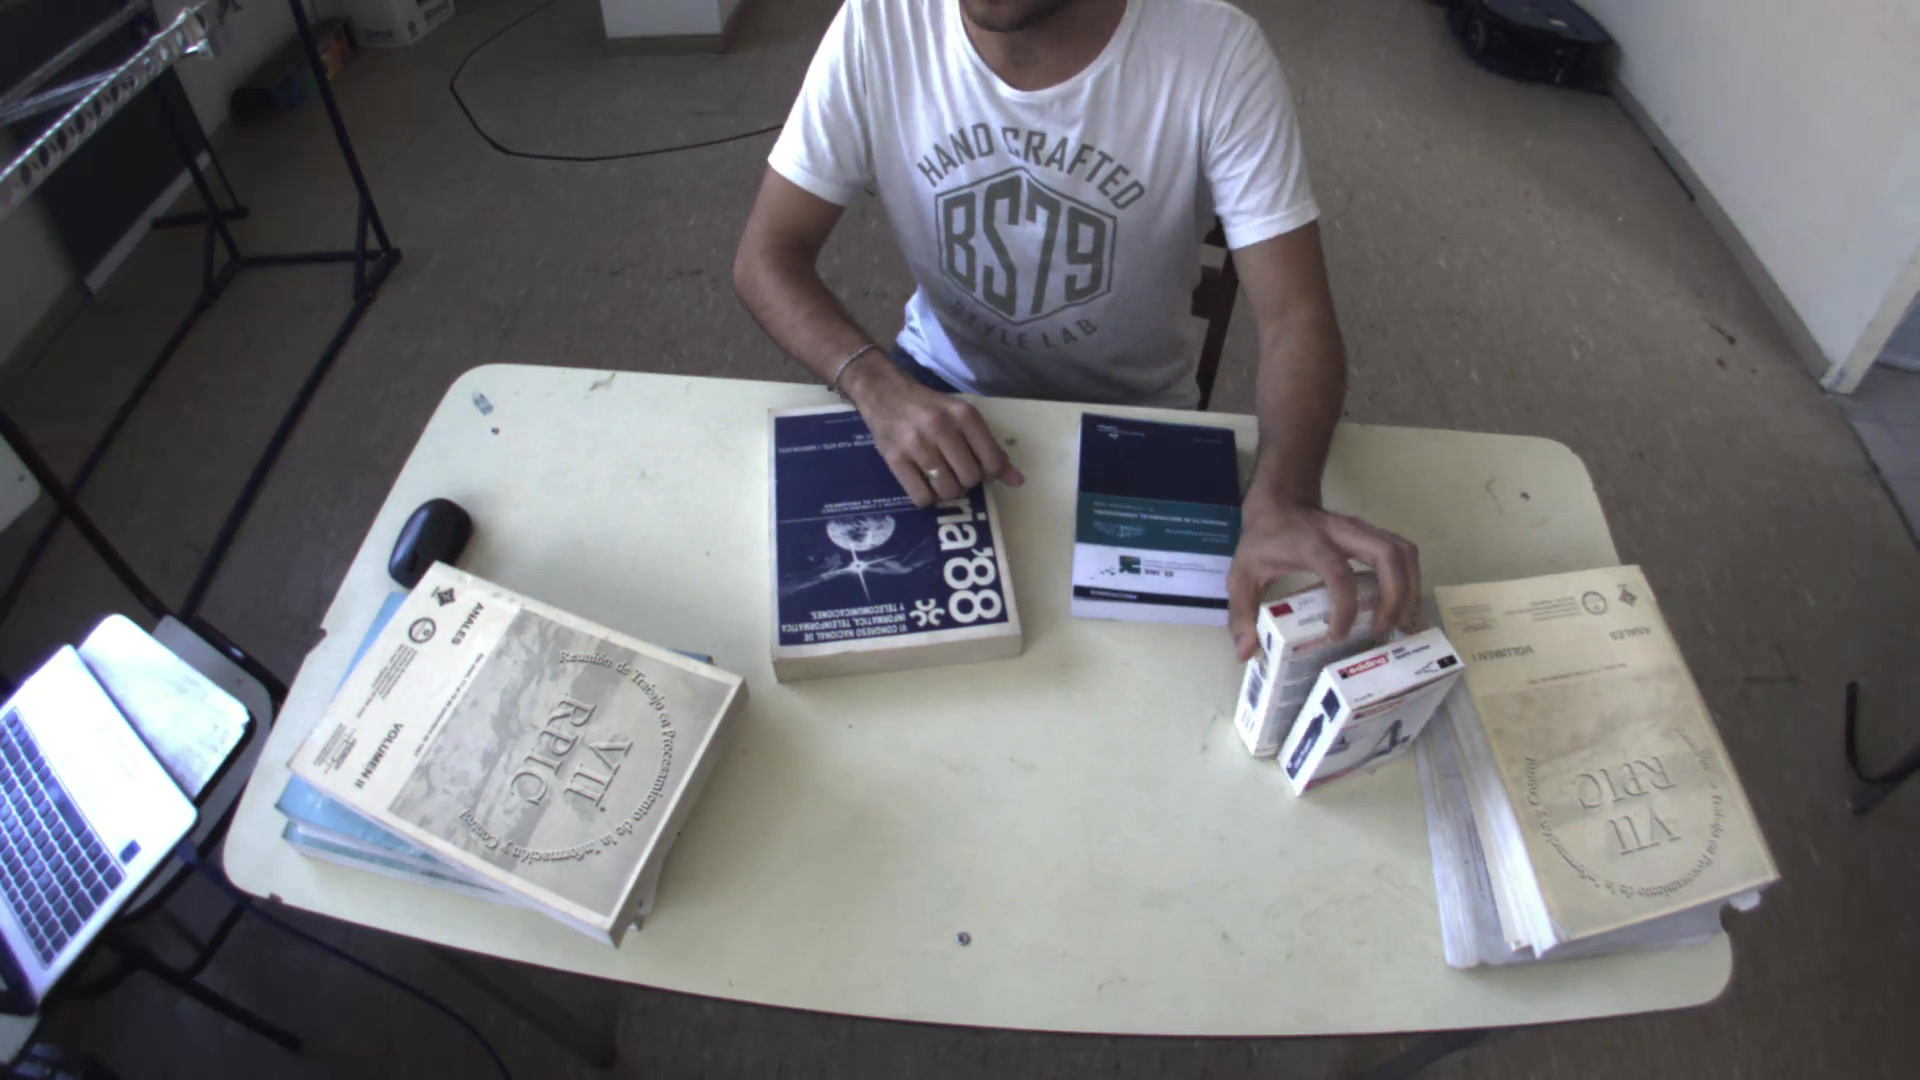hand: (1226, 483, 1445, 651), (841, 364, 1034, 506)
